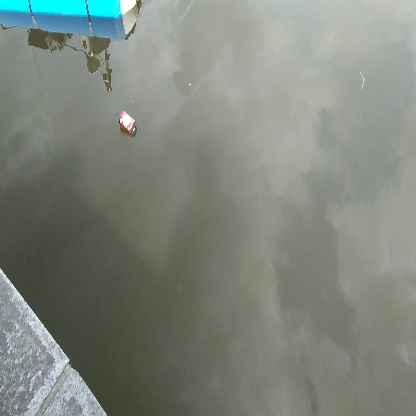bottle: (116, 108, 137, 138)
